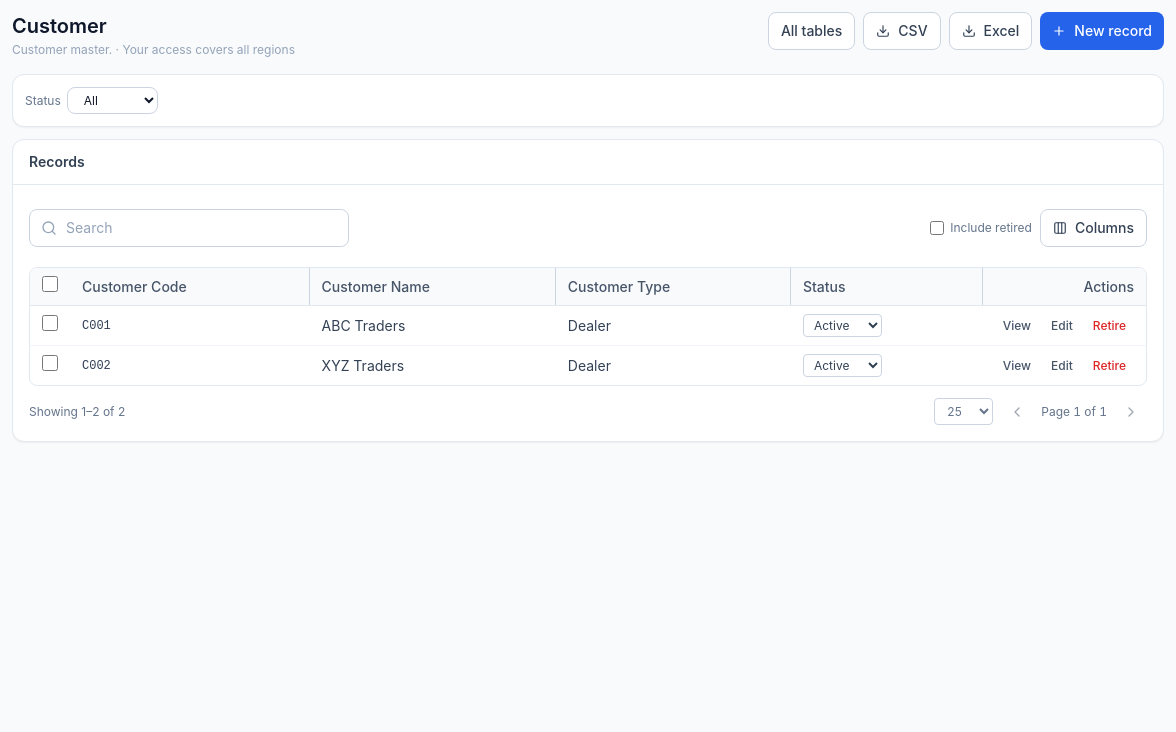
Test case: MasterDataPage › reports what a bulk action refused instead of answering with silence
This screenshot has width=1176, height=732.
Check: the text "ABC Traders" is shown, box x1=310 y1=306 x2=556 y2=346
Click the checkbox named "Select row" next to "C001" at (50, 323), box x1=42 y1=315 x2=58 y2=331
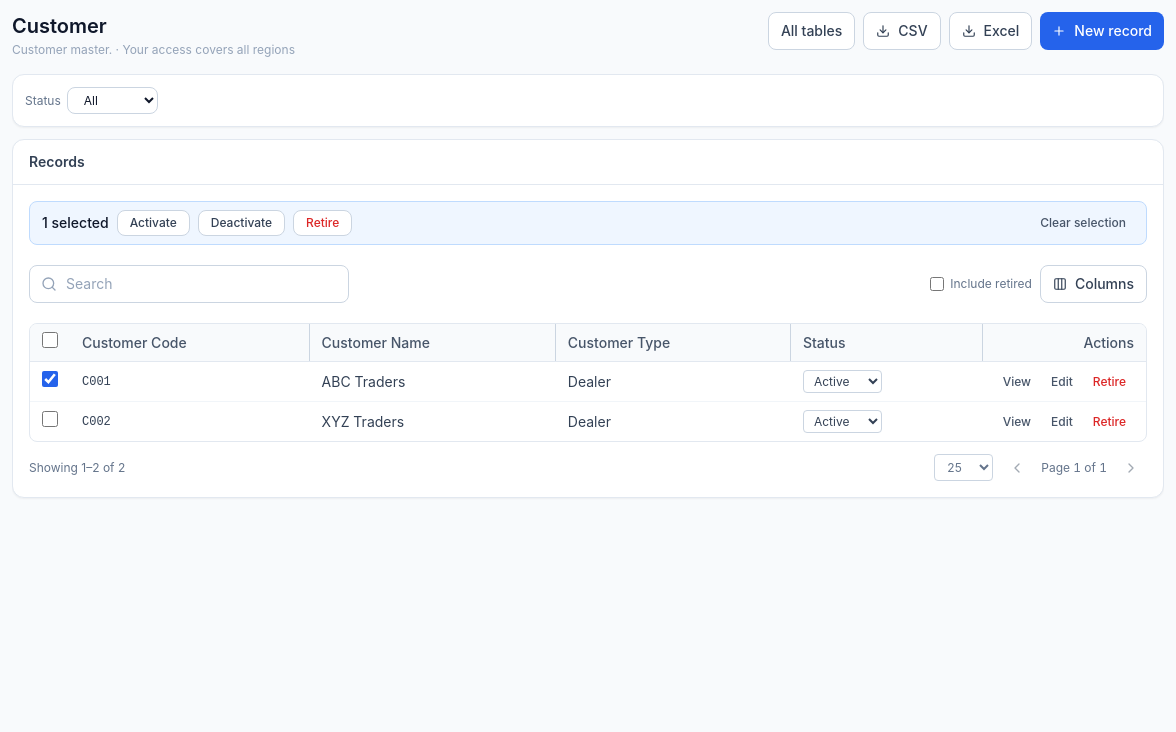
Note: Scoped to the bulk bar: the row menu offers a Retire of its own.
Click the button "Retire" in the row of "1 selected" at (323, 223), box x1=293 y1=210 x2=352 y2=236
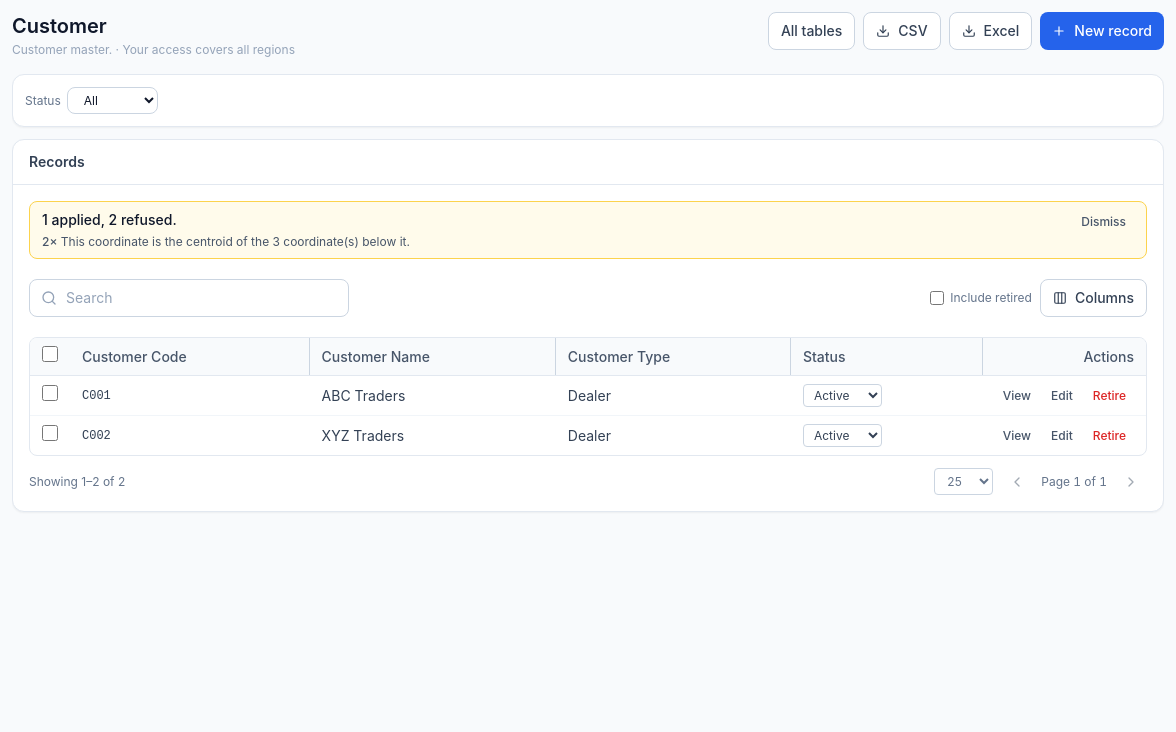
Check: the message shows "1 applied, 2 refused.", box x1=42 y1=211 x2=177 y2=228
Check: the message shows "2×", box x1=29 y1=201 x2=1147 y2=259
Check: the message shows "centroid of the 3 coordinate", box x1=61 y1=234 x2=410 y2=249
